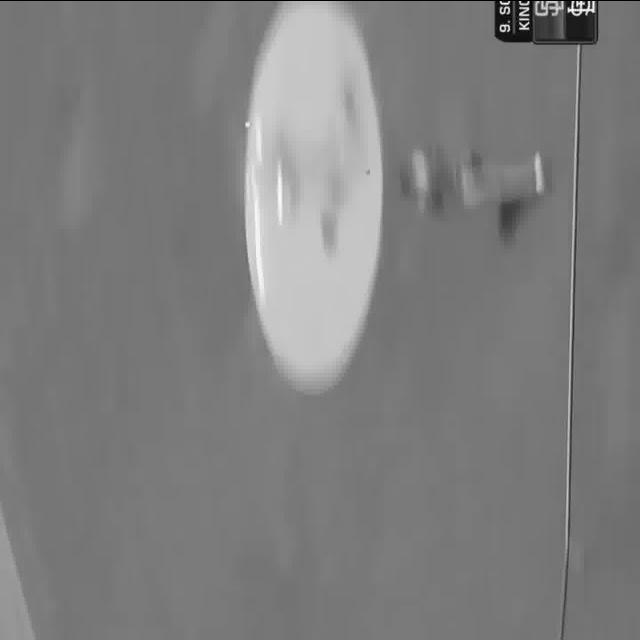baseball: (244, 121, 252, 127)
